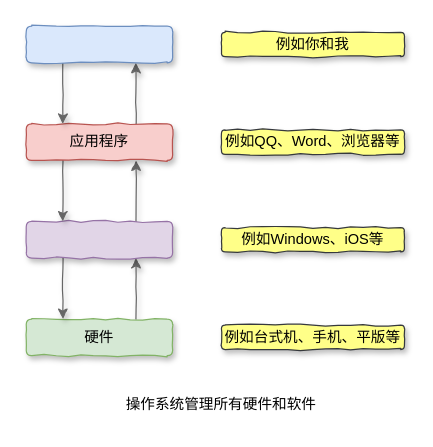
Some shapes in this 433 by 447 pixel diagram are drawn without their labels. The centre of each missing label's shape, as x and y in pixels:
"操作系统" belongs at pixel 100 241.
"用户" belongs at pixel 100 45.
